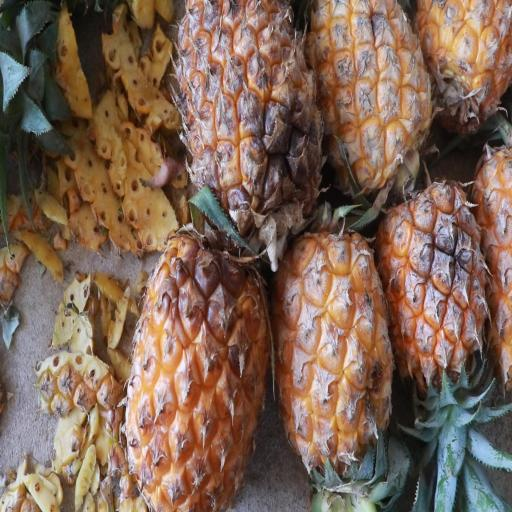Pineapple - v8 v1: (125, 221, 273, 512), (176, 0, 325, 245), (272, 217, 394, 475), (306, 0, 436, 205), (382, 172, 495, 384), (415, 0, 512, 148)
